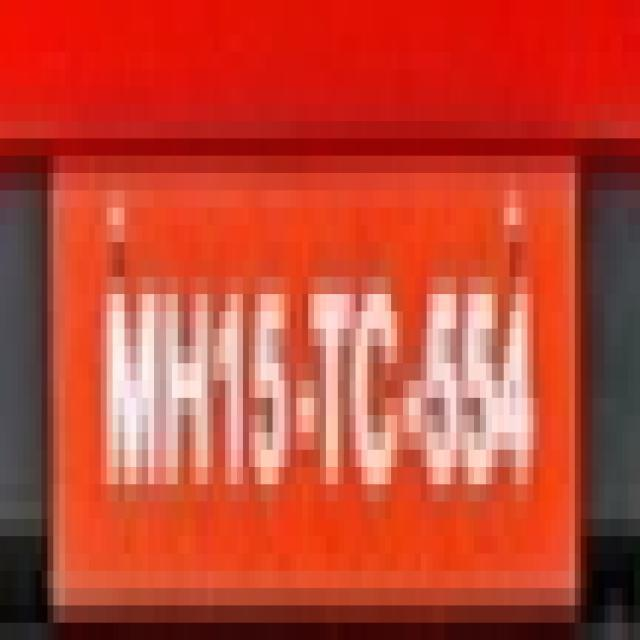1: (213, 278, 244, 493)
4: (500, 276, 540, 508)
5: (248, 276, 290, 502), (420, 276, 460, 500), (462, 276, 500, 504)
C: (353, 281, 401, 496)
H: (159, 276, 213, 502)
M: (101, 266, 156, 508)
T: (304, 284, 352, 494)
